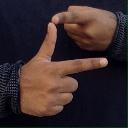hand: (18, 21, 108, 117), (50, 4, 117, 51)
